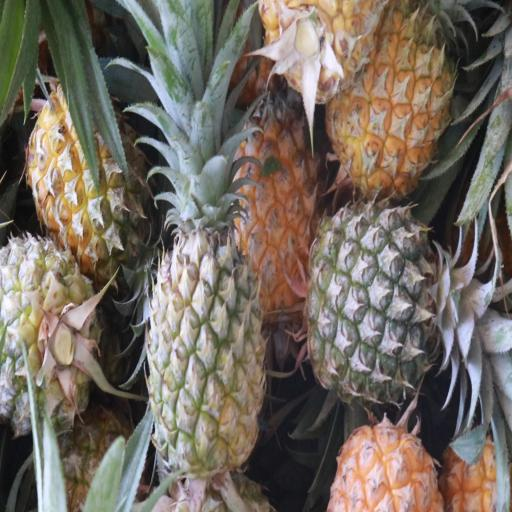------------------------------: (28, 67, 146, 266), (0, 236, 99, 430)
Pineapple - v8 v1: (327, 9, 455, 193), (230, 102, 318, 318), (325, 409, 446, 512)
